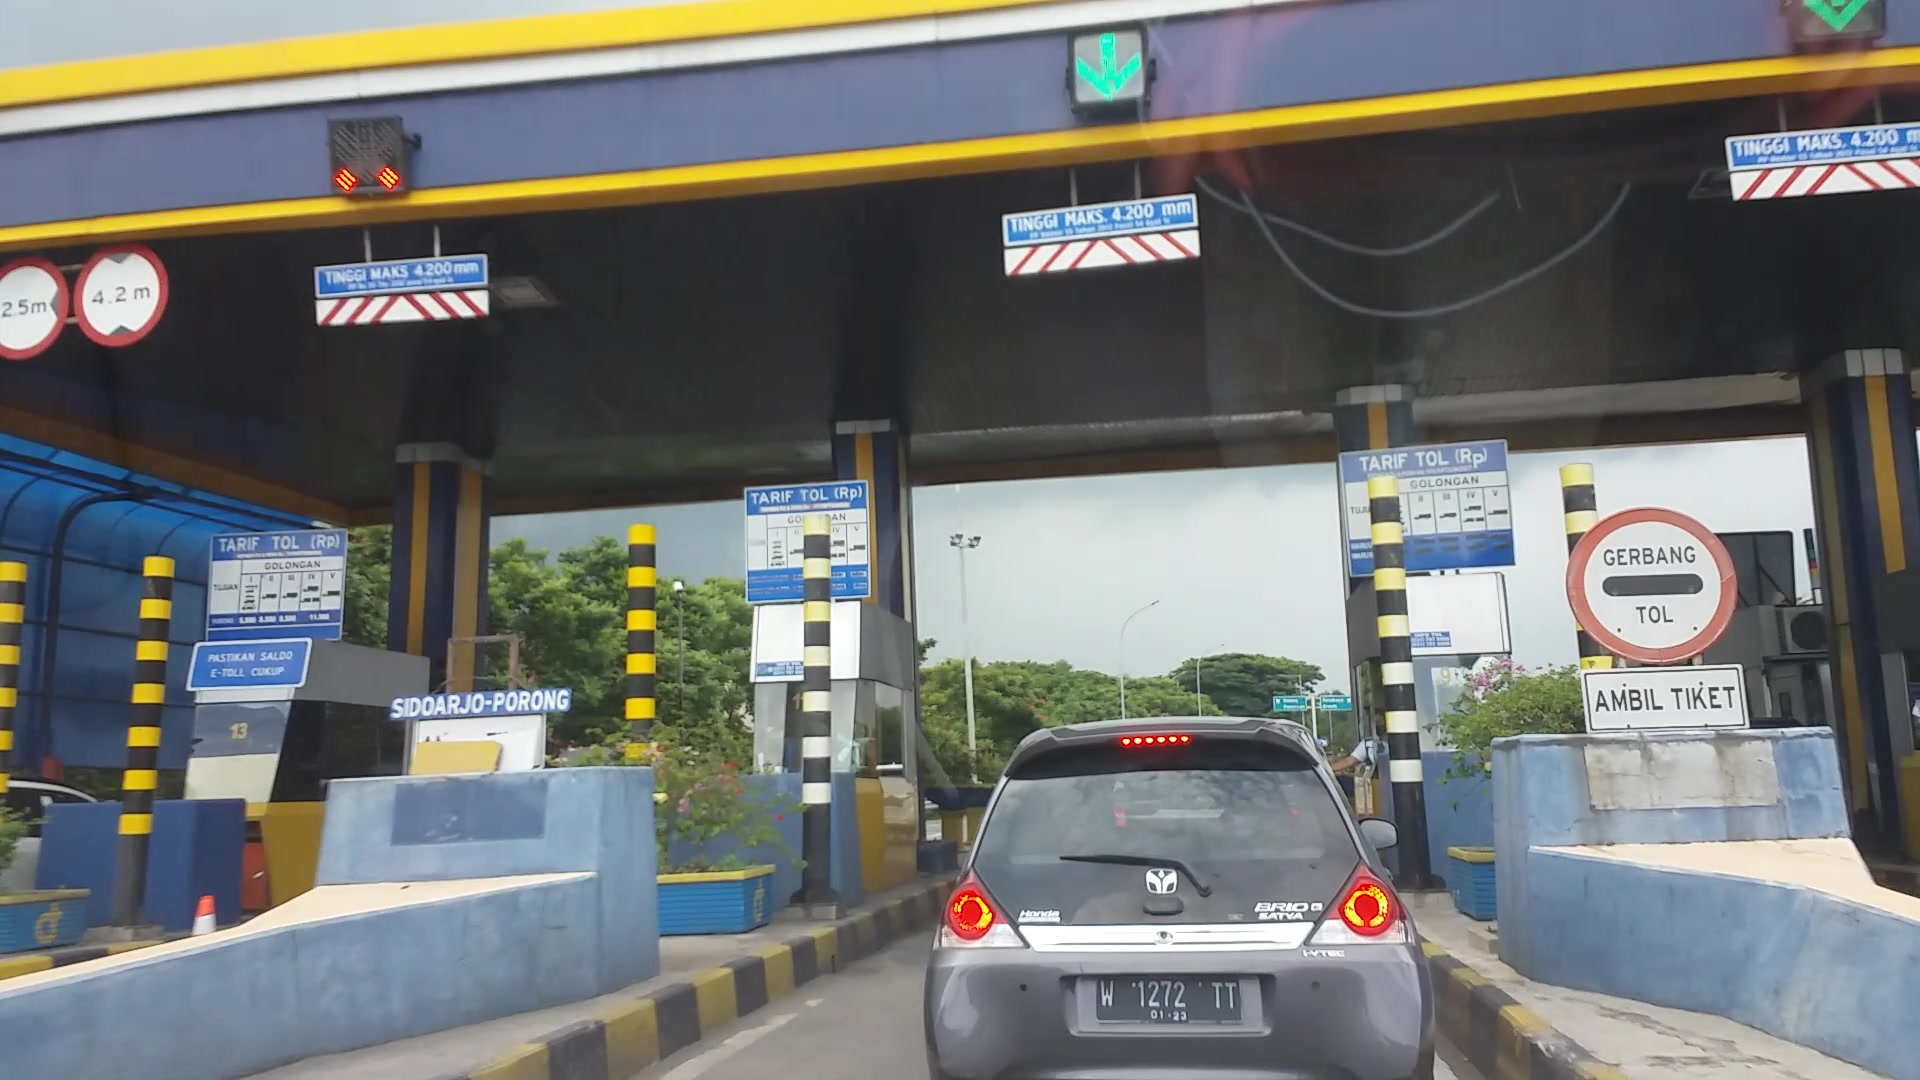plate_positive: (1096, 975, 1242, 1025)
